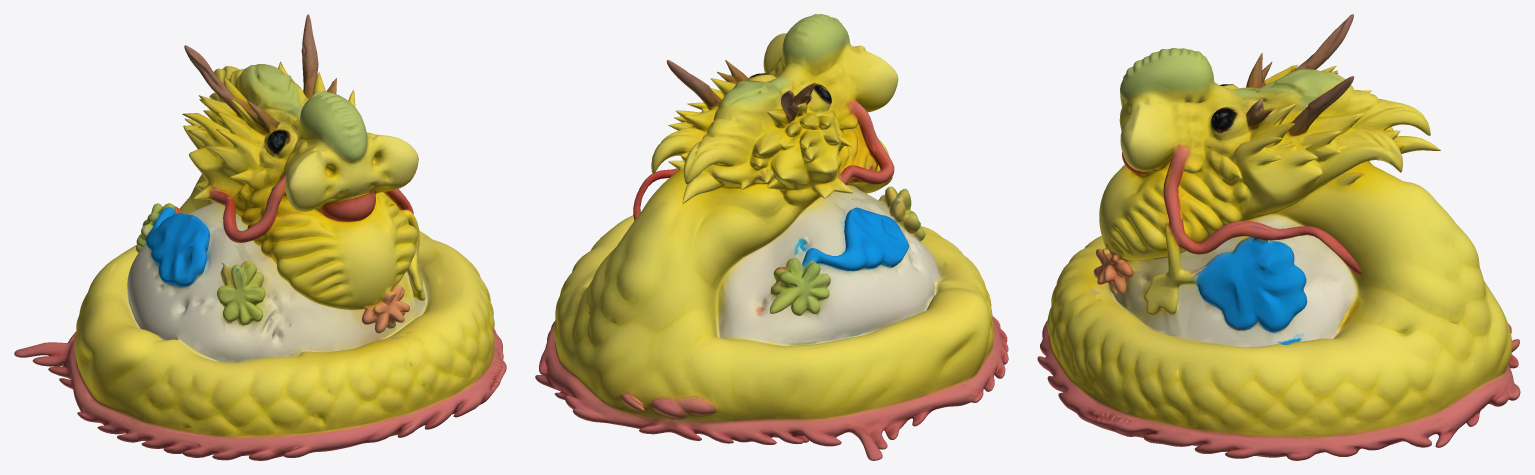
File: 龙抬头聚宝盆.glb
3 renders of one model, left to right at view 1: azimuth 30°, elevation 25°; view 2: azimuth 150°, elevation 25°; view 3: azimuth 270°, elevation 25°, orthographic. The views are drawn at different scales.
Parts seen in each view (by area): view 1: node_0; view 2: node_0; view 3: node_0.
Boxes of the visible parts, x1,y1,x2,y2 form: node_0: (14, 14, 506, 460); node_0: (535, 14, 1008, 460); node_0: (1037, 14, 1520, 460).
Size of the model in its own units: 0.8965 by 0.6716 by 0.8968.
Materials: 1 (1 with a texture image).
